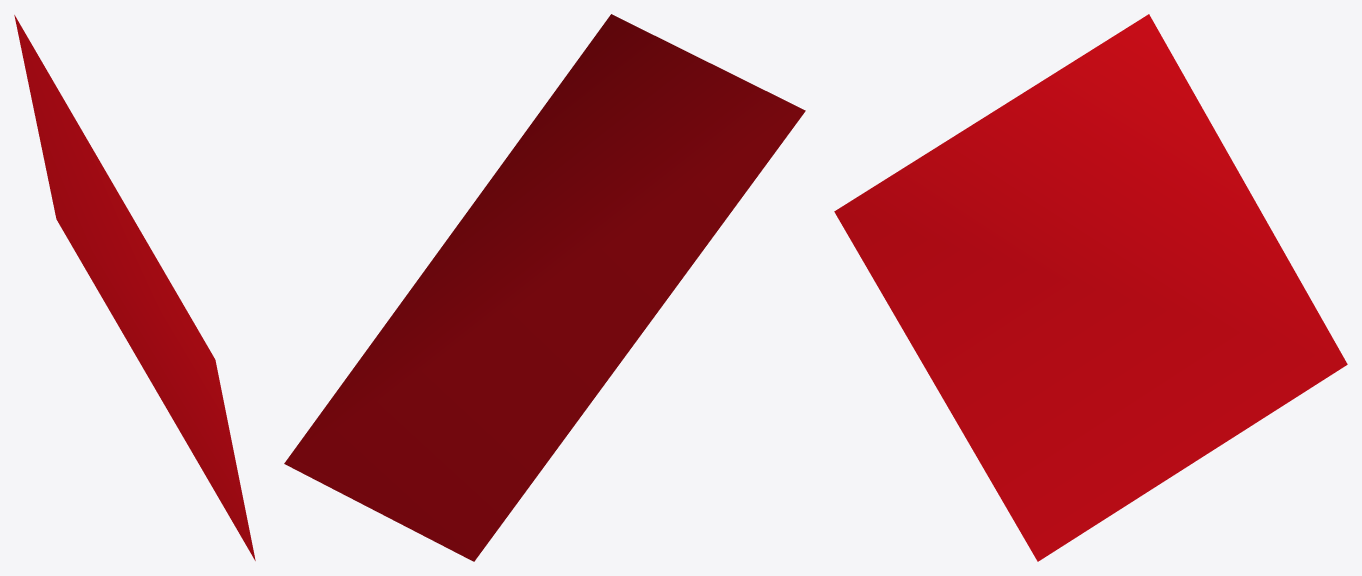
File: echinaceaFlower_low.glb
3 views of the same model, side by side, from view 1: azimuth 30°, elevation 25°; view 2: azimuth 150°, elevation 25°; view 3: azimuth 270°, elevation 25° (orthographic). The views are drawn at different scales.
Parts seen in each view (by area): view 1: Icosphere; view 2: Icosphere; view 3: Icosphere.
Part boxes in pixels (bbox=[...]): Icosphere: bbox=[14, 15, 255, 560]; Icosphere: bbox=[284, 14, 805, 561]; Icosphere: bbox=[834, 14, 1347, 561].
Size of the model in its own units: 0.0466 by 0.1365 by 0.1344.
